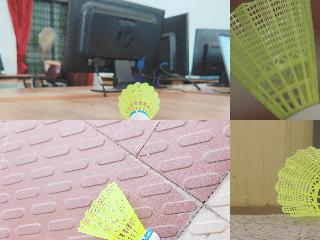shuttlecock: (230, 0, 319, 119), (76, 180, 160, 239), (275, 146, 319, 220), (117, 81, 161, 119)
